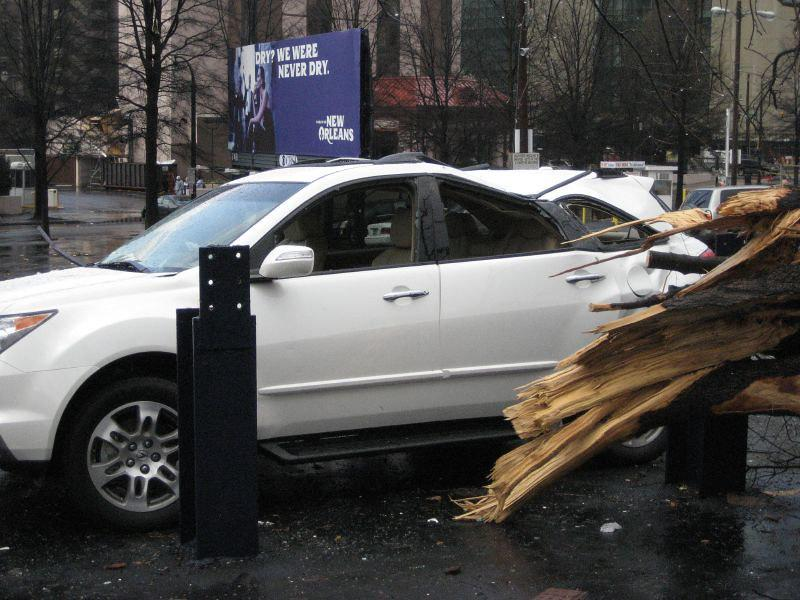pillar-dent: (529, 187, 621, 277)
roof-dent: (247, 137, 613, 198)
